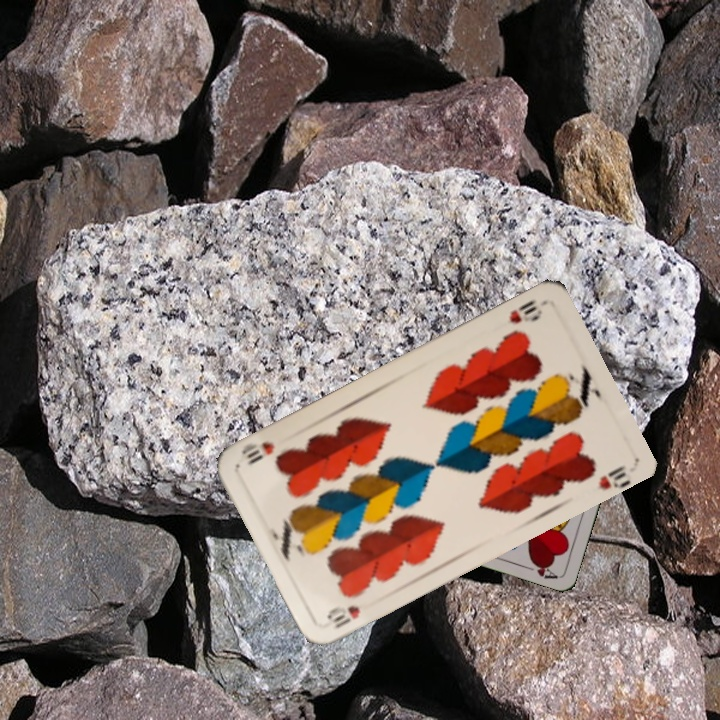H10: (505, 295, 547, 327), (323, 601, 363, 631)
